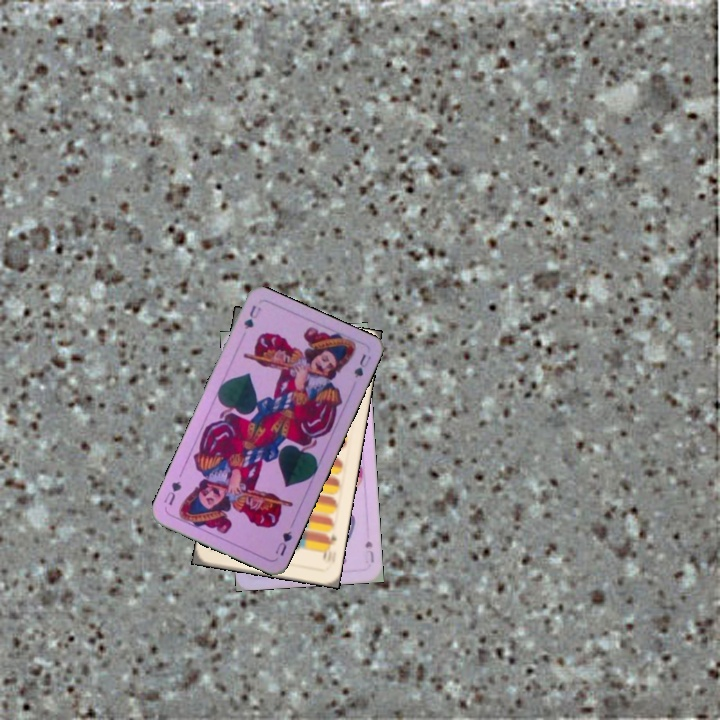E10: (319, 530, 339, 563)
GU: (271, 527, 295, 558), (239, 301, 263, 332)
SU: (361, 536, 377, 565)
